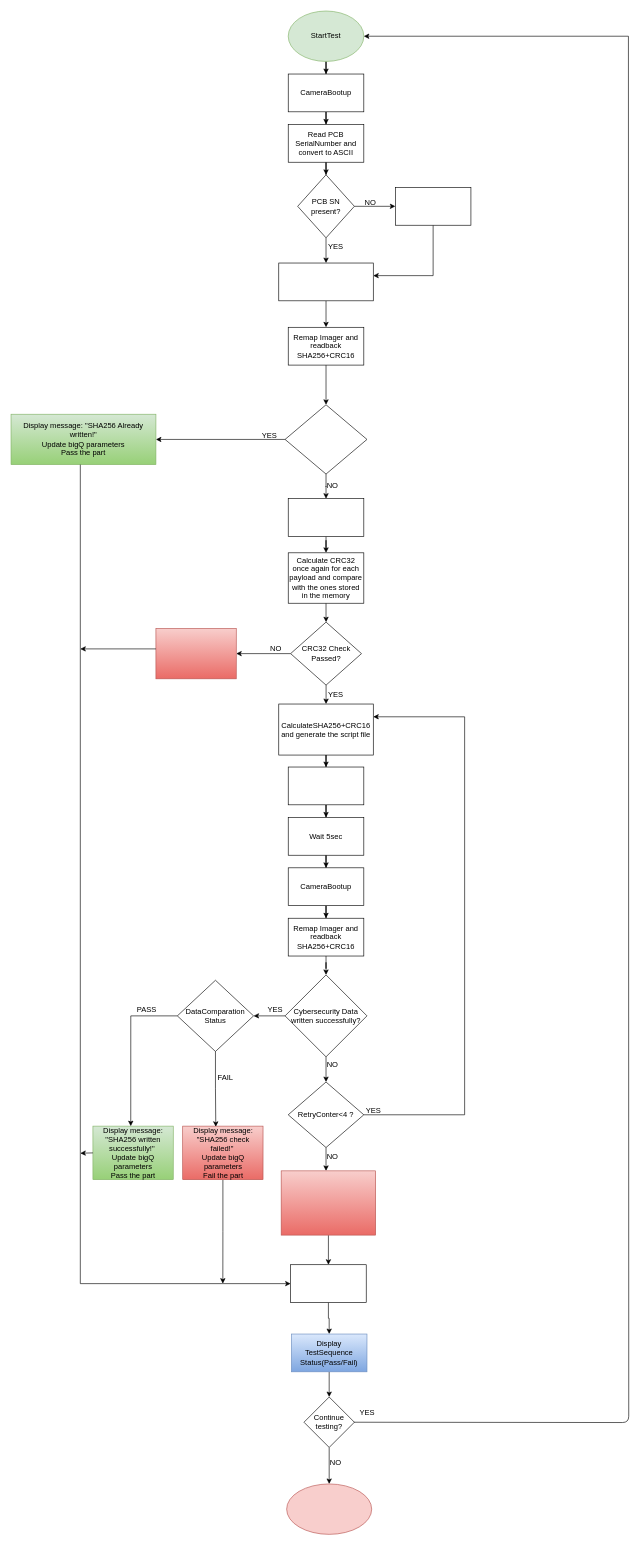
This 644x1545 diagram has some shape labels left out. Here are the shapes that lost their labels. From the top down, the centre of each, then its label:
(x=433, y=206): AskOperator to scan Lens SerialNumber
(x=325, y=281): LoadConfigurationFile (Generate ResultsFolder)
(x=325, y=439): Data already flashed?
(x=326, y=517): Readback full EEPROM memory
(x=195, y=653): Display message: "CRC Check Failed" Update bigQ parameters Fail the part
(x=326, y=785): Write CybersecurityData
(x=328, y=1202): Display message: "SHA256 not written!" Update bigQ parameters Fail the part
(x=328, y=1283): CameraShutdown
(x=329, y=1508): StopTest
